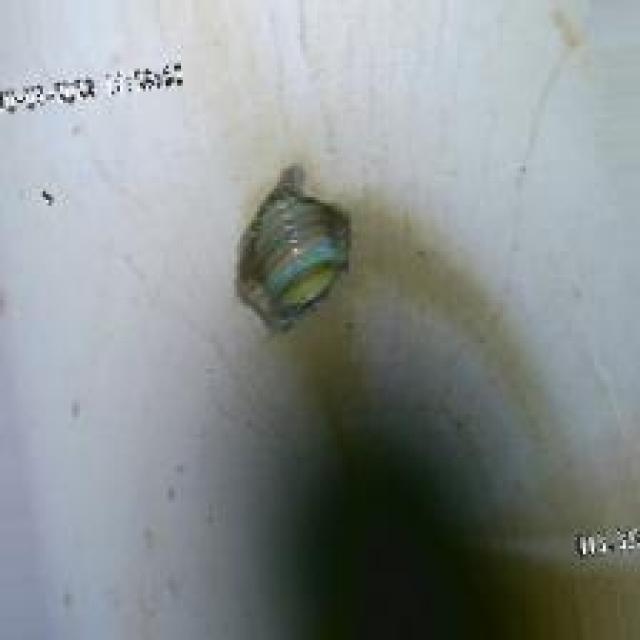ferrule: (229, 177, 354, 314)
